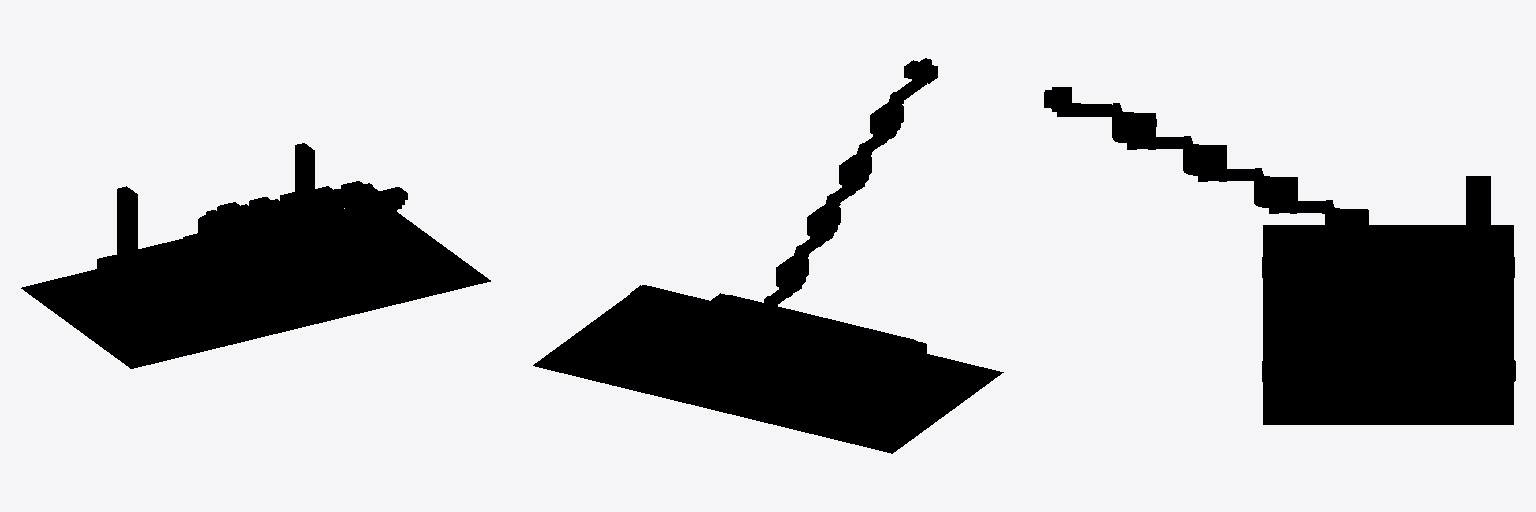
--- Facts derived from the render (not from the file) ---
3 views of the same robot in one strip: view 1: azimuth 30°, elevation 25°; view 2: azimuth 150°, elevation 25°; view 3: azimuth 270°, elevation 25° (orthographic).
Model scara_e1_3joints with 36 links and 35 joints (6 revolute, 29 fixed), rooted at world, posed all joints at 0.
Visible links, largest first — view 1: world, scara_e1_base_link, scara_e1_metraquilato, scara_e1_motor2, scara_e1_motor5, scara_e1_motor6, scara_e1_motor3, scara_e1_motor4, scara_e1_rangefinder; view 2: world, scara_e1_metraquilato, scara_e1_base_link, scara_e1_motor1, scara_e1_motor6, scara_e1_motor4, scara_e1_motor3, scara_e1_motor2, scara_e1_motor5, scara_e1_rangefinder; view 3: world, scara_e1_base_link, scara_e1_metraquilato, scara_e1_motor6, scara_e1_motor5, scara_e1_motor2, scara_e1_motor3, scara_e1_motor4, scara_e1_rangefinder, scara_e1_hros_logo, scara_e1_bar6.
Link boxes in pixels (<box>): world: <box>21,204,490,368</box>; scara_e1_base_link: <box>97,143,414,349</box>; scara_e1_metraquilato: <box>97,146,413,348</box>; scara_e1_motor2: <box>217,202,250,235</box>; scara_e1_motor5: <box>310,186,343,219</box>; scara_e1_motor6: <box>341,181,373,214</box>; scara_e1_motor3: <box>249,197,281,230</box>; scara_e1_motor4: <box>280,191,312,224</box>; scara_e1_rangefinder: <box>374,187,407,209</box>; world: <box>533,285,1003,453</box>; scara_e1_metraquilato: <box>610,288,926,433</box>; scara_e1_base_link: <box>609,285,926,434</box>; scara_e1_motor1: <box>707,353,746,381</box>; scara_e1_motor6: <box>870,103,903,136</box>; scara_e1_motor4: <box>807,206,840,238</box>; scara_e1_motor3: <box>776,256,808,289</box>; scara_e1_motor2: <box>745,307,777,340</box>; scara_e1_motor5: <box>839,155,871,187</box>; scara_e1_rangefinder: <box>904,58,937,83</box>; world: <box>1263,225,1513,424</box>; scara_e1_base_link: <box>1262,176,1515,381</box>; scara_e1_metraquilato: <box>1263,182,1514,381</box>; scara_e1_motor6: <box>1112,112,1156,142</box>; scara_e1_motor5: <box>1183,145,1226,174</box>; scara_e1_motor2: <box>1395,241,1439,270</box>; scara_e1_motor3: <box>1325,209,1368,238</box>; scara_e1_motor4: <box>1254,177,1297,206</box>; scara_e1_rangefinder: <box>1044,87,1081,112</box>; scara_e1_hros_logo: <box>1270,288,1297,335</box>; scara_e1_bar6: <box>1057,104,1117,116</box>.
Size in the robot's own frame: 1.5 by 1.5 by 0.8017 metres.
34 mesh visuals loaded from 10 distinct referenced files (10 binary STL).

robot.urdf — scara_e1_3joints:
<?xml version="1.0" ?>
<!-- =================================================================================== -->
<!-- |    This document was autogenerated by xacro from scara_e1_model_6joints.urdf.xacro | -->
<!-- |    EDITING THIS FILE BY HAND IS NOT RECOMMENDED                                 | -->
<!-- =================================================================================== -->
<robot name="scara_e1_3joints" xmlns:xacro="http://ros.org/wiki/xacro">
  <link name="world">
    <visual>
      <geometry>
        <box size="1.5 0.8 0.001"/>
      </geometry>
      <origin rpy="0 0 0" xyz="0 0 0"/>
      <material name="Gazebo/Black">
       </material>
    </visual>
  </link>
  <link name="scara_e1_base_link">
    <inertial>
      <origin rpy="0 0 0" xyz="8.625E-08 -4.6583E-06 0.03145"/>
      <mass value="0.22652"/>
      <inertia ixx="0.00020005" ixy="-4.2442E-10" ixz="-2.9069E-10" iyy="0.00017832" iyz="-3.4402E-08" izz="0.00013478"/>
    </inertial>
    <visual>
      <origin rpy="0 0 0" xyz="0 0 0"/>
      <geometry>
        <mesh filename="package://scara_e1_description/meshes/scara_e1_base_link.stl" scale="0.001 0.001 0.001"/>
      </geometry>
      <material name="Gazebo/Grey">
        <color rgba="0. 0. 0. 1"/>
      </material>
    </visual>
    <collision>
      <origin rpy="0 0 0" xyz="0 0 0"/>
      <geometry>
        <mesh filename="package://scara_e1_description/meshes/scara_e1_base_link.stl" scale="0.001 0.001 0.001"/>
      </geometry>
    </collision>
  </link>
  <link name="scara_e1_metraquilato">
    <inertial>
      <origin rpy="0 0 0" xyz="8.625E-08 -4.6583E-06 0.03145"/>
      <mass value="0.22652"/>
      <inertia ixx="0.00020005" ixy="-4.2442E-10" ixz="-2.9069E-10" iyy="0.00017832" iyz="-3.4402E-08" izz="0.00013478"/>
    </inertial>
    <visual>
      <origin rpy="0 0 0" xyz="0 0 0"/>
      <geometry>
        <mesh filename="package://scara_e1_description/meshes/scara_e1_metacrilato.stl" scale="0.001 0.001 0.001"/>
      </geometry>
      <material name="Gazebo/Black">
        <color rgba="0. 0. 0. 1"/>
      </material>
    </visual>
    <collision>
      <origin rpy="0 0 0" xyz="0 0 0"/>
      <geometry>
        <mesh filename="package://scara_e1_description/meshes/scara_e1_metacrilato.stl" scale="0.001 0.001 0.001"/>
      </geometry>
    </collision>
  </link>
  <link name="scara_e1_hros_logo">
    <inertial>
      <origin rpy="0 0 0" xyz="8.625E-08 -4.6583E-06 0.03145"/>
      <mass value="0.22652"/>
      <inertia ixx="0.00020005" ixy="-4.2442E-10" ixz="-2.9069E-10" iyy="0.00017832" iyz="-3.4402E-08" izz="0.00013478"/>
    </inertial>
    <visual>
      <origin rpy="0 0 0" xyz="0 0 0"/>
      <geometry>
        <mesh filename="package://scara_e1_description/meshes/scara_e1_hros_logo.stl" scale="0.001 0.001 0.001"/>
      </geometry>
      <material name="Gazebo/Black">
        <color rgba="0. 0. 0. 1"/>
      </material>
    </visual>
    <collision>
      <origin rpy="0 0 0" xyz="0 0 0"/>
      <geometry>
        <mesh filename="package://scara_e1_description/meshes/scara_e1_hros_logo.stl" scale="0.001 0.001 0.001"/>
      </geometry>
    </collision>
  </link>
  <link name="scara_e1_base_motor">
    <inertial>
      <origin rpy="0 0 0" xyz="8.625E-08 -4.6583E-06 0.03145"/>
      <mass value="0.22652"/>
      <inertia ixx="0.00020005" ixy="-4.2442E-10" ixz="-2.9069E-10" iyy="0.00017832" iyz="-3.4402E-08" izz="0.00013478"/>
    </inertial>
    <visual>
      <origin rpy="0 0 0" xyz="0 0 0"/>
      <geometry>
        <mesh filename="package://scara_e1_description/meshes/scara_e1_base_motor.stl" scale="0.001 0.001 0.001"/>
      </geometry>
      <material name="Gazebo/Grey">
        <color rgba="0. 0. 0. 1"/>
      </material>
    </visual>
    <collision>
      <origin rpy="0 0 0" xyz="0 0 0"/>
      <geometry>
        <mesh filename="package://scara_e1_description/meshes/scara_e1_base_motor.stl" scale="0.001 0.001 0.001"/>
      </geometry>
    </collision>
  </link>
  <link name="scara_e1_motor1">
    <inertial>
      <origin rpy="0 0 0" xyz="8.625E-08 -4.6583E-06 0.03145"/>
      <mass value="0.22652"/>
      <inertia ixx="0.00020005" ixy="-4.2442E-10" ixz="-2.9069E-10" iyy="0.00017832" iyz="-3.4402E-08" izz="0.00013478"/>
    </inertial>
    <visual>
      <origin rpy="0 0 0" xyz="0 0 0"/>
      <geometry>
        <mesh filename="package://scara_e1_description/meshes/HEBImotor_case.stl" scale="0.001 0.001 0.001"/>
      </geometry>
      <material name="Gazebo/Red">
        <color rgba="0. 0. 0. 1"/>
      </material>
    </visual>
    <collision>
      <origin rpy="0 0 0" xyz="0 0 0"/>
      <geometry>
        <mesh filename="package://scara_e1_description/meshes/HEBImotor_case.stl" scale="0.001 0.001 0.001"/>
      </geometry>
    </collision>
  </link>
  <link name="scara_e1_motor1_inside">
    <inertial>
      <origin rpy="0 0 0" xyz="8.625E-08 -4.6583E-06 0.03145"/>
      <mass value="0.22652"/>
      <inertia ixx="0.00020005" ixy="-4.2442E-10" ixz="-2.9069E-10" iyy="0.00017832" iyz="-3.4402E-08" izz="0.00013478"/>
    </inertial>
    <visual>
      <origin rpy="0 0 0" xyz="0 0 0"/>
      <geometry>
        <mesh filename="package://scara_e1_description/meshes/HEBImotor.stl" scale="0.001 0.001 0.001"/>
      </geometry>
      <material name="Gazebo/Red">
        <color rgba="0. 0. 0. 1"/>
      </material>
    </visual>
    <collision>
      <origin rpy="0 0 0" xyz="0 0 0"/>
      <geometry>
        <mesh filename="package://scara_e1_description/meshes/HEBImotor.stl" scale="0.001 0.001 0.001"/>
      </geometry>
    </collision>
  </link>
  <link name="scara_e1_motor1_support">
    <inertial>
      <origin rpy="0 0 0" xyz="8.625E-08 -4.6583E-06 0.03145"/>
      <mass value="0.22652"/>
      <inertia ixx="0.00020005" ixy="-4.2442E-10" ixz="-2.9069E-10" iyy="0.00017832" iyz="-3.4402E-08" izz="0.00013478"/>
    </inertial>
    <visual>
      <origin rpy="0 0 0" xyz="0 0 0"/>
      <geometry>
        <mesh filename="package://scara_e1_description/meshes/HEBImotor_support.stl" scale="0.001 0.001 0.001"/>
      </geometry>
      <material name="Gazebo/Grey">
        <color rgba="0. 0. 0. 1"/>
      </material>
    </visual>
    <collision>
      <origin rpy="0 0 0" xyz="0 0 0"/>
      <geometry>
        <mesh filename="package://scara_e1_description/meshes/HEBImotor_support.stl" scale="0.001 0.001 0.001"/>
      </geometry>
    </collision>
  </link>
  <link name="scara_e1_bar1">
    <inertial>
      <origin rpy="0 0 0" xyz="8.625E-08 -4.6583E-06 0.03145"/>
      <mass value="0.22652"/>
      <inertia ixx="0.00020005" ixy="-4.2442E-10" ixz="-2.9069E-10" iyy="0.00017832" iyz="-3.4402E-08" izz="0.00013478"/>
    </inertial>
    <visual>
      <origin rpy="0 0 0" xyz="0 0 0"/>
      <geometry>
        <mesh filename="package://scara_e1_description/meshes/scara_bar.stl" scale="0.001 0.001 0.001"/>
      </geometry>
      <material name="Gazebo/White">
        <color rgba="0. 0. 0. 1"/>
      </material>
    </visual>
    <collision>
      <origin rpy="0 0 0" xyz="0 0 0"/>
      <geometry>
        <mesh filename="package://scara_e1_description/meshes/scara_bar.stl" scale="0.001 0.001 0.001"/>
      </geometry>
    </collision>
  </link>
  <link name="scara_e1_fixbar1">
    <inertial>
      <origin rpy="0 0 0" xyz="8.625E-08 -4.6583E-06 0.03145"/>
      <mass value="0.22652"/>
      <inertia ixx="0.00020005" ixy="-4.2442E-10" ixz="-2.9069E-10" iyy="0.00017832" iyz="-3.4402E-08" izz="0.00013478"/>
    </inertial>
    <visual>
      <origin rpy="0 0 0" xyz="0 0 0"/>
      <geometry>
        <mesh filename="package://scara_e1_description/meshes/HEBImotor_fixbar.stl" scale="0.001 0.001 0.001"/>
      </geometry>
      <material name="Gazebo/Grey">
        <color rgba="0. 0. 0. 1"/>
      </material>
    </visual>
    <collision>
      <origin rpy="0 0 0" xyz="0 0 0"/>
      <geometry>
        <mesh filename="package://scara_e1_description/meshes/HEBImotor_fixbar.stl" scale="0.001 0.001 0.001"/>
      </geometry>
    </collision>
  </link>
  <link name="scara_e1_motor2">
    <inertial>
      <origin rpy="0 0 0" xyz="8.625E-08 -4.6583E-06 0.03145"/>
      <mass value="0.22652"/>
      <inertia ixx="0.00020005" ixy="-4.2442E-10" ixz="-2.9069E-10" iyy="0.00017832" iyz="-3.4402E-08" izz="0.00013478"/>
    </inertial>
    <visual>
      <origin rpy="0 0 0" xyz="0 0 0"/>
      <geometry>
        <mesh filename="package://scara_e1_description/meshes/HEBImotor_case.stl" scale="0.001 0.001 0.001"/>
      </geometry>
      <material name="Gazebo/Red">
        <color rgba="0. 0. 0. 1"/>
      </material>
    </visual>
    <collision>
      <origin rpy="0 0 0" xyz="0 0 0"/>
      <geometry>
        <mesh filename="package://scara_e1_description/meshes/HEBImotor_case.stl" scale="0.001 0.001 0.001"/>
      </geometry>
    </collision>
  </link>
  <link name="scara_e1_motor2_inside">
    <inertial>
      <origin rpy="0 0 0" xyz="8.625E-08 -4.6583E-06 0.03145"/>
      <mass value="0.22652"/>
      <inertia ixx="0.00020005" ixy="-4.2442E-10" ixz="-2.9069E-10" iyy="0.00017832" iyz="-3.4402E-08" izz="0.00013478"/>
    </inertial>
    <visual>
      <origin rpy="0 0 0" xyz="0 0 0"/>
      <geometry>
        <mesh filename="package://scara_e1_description/meshes/HEBImotor.stl" scale="0.001 0.001 0.001"/>
      </geometry>
      <material name="Gazebo/Red">
        <color rgba="0. 0. 0. 1"/>
      </material>
    </visual>
    <collision>
      <origin rpy="0 0 0" xyz="0 0 0"/>
      <geometry>
        <mesh filename="package://scara_e1_description/meshes/HEBImotor.stl" scale="0.001 0.001 0.001"/>
      </geometry>
    </collision>
  </link>
  <link name="scara_e1_motor2_support">
    <inertial>
      <origin rpy="0 0 0" xyz="8.625E-08 -4.6583E-06 0.03145"/>
      <mass value="0.22652"/>
      <inertia ixx="0.00020005" ixy="-4.2442E-10" ixz="-2.9069E-10" iyy="0.00017832" iyz="-3.4402E-08" izz="0.00013478"/>
    </inertial>
    <visual>
      <origin rpy="0 0 0" xyz="0 0 0"/>
      <geometry>
        <mesh filename="package://scara_e1_description/meshes/HEBImotor_support.stl" scale="0.001 0.001 0.001"/>
      </geometry>
      <material name="Gazebo/Grey">
        <color rgba="0. 0. 0. 1"/>
      </material>
    </visual>
    <collision>
      <origin rpy="0 0 0" xyz="0 0 0"/>
      <geometry>
        <mesh filename="package://scara_e1_description/meshes/HEBImotor_support.stl" scale="0.001 0.001 0.001"/>
      </geometry>
    </collision>
  </link>
  <link name="scara_e1_bar2">
    <inertial>
      <origin rpy="0 0 0" xyz="8.625E-08 -4.6583E-06 0.03145"/>
      <mass value="0.22652"/>
      <inertia ixx="0.00020005" ixy="-4.2442E-10" ixz="-2.9069E-10" iyy="0.00017832" iyz="-3.4402E-08" izz="0.00013478"/>
    </inertial>
    <visual>
      <origin rpy="0 0 0" xyz="0 0 0"/>
      <geometry>
        <mesh filename="package://scara_e1_description/meshes/scara_bar.stl" scale="0.001 0.001 0.001"/>
      </geometry>
      <material name="Gazebo/White">
        <color rgba="0. 0. 0. 1"/>
      </material>
    </visual>
    <collision>
      <origin rpy="0 0 0" xyz="0 0 0"/>
      <geometry>
        <mesh filename="package://scara_e1_description/meshes/scara_bar.stl" scale="0.001 0.001 0.001"/>
      </geometry>
    </collision>
  </link>
  <link name="scara_e1_fixbar2">
    <inertial>
      <origin rpy="0 0 0" xyz="8.625E-08 -4.6583E-06 0.03145"/>
      <mass value="0.22652"/>
      <inertia ixx="0.00020005" ixy="-4.2442E-10" ixz="-2.9069E-10" iyy="0.00017832" iyz="-3.4402E-08" izz="0.00013478"/>
    </inertial>
    <visual>
      <origin rpy="0 0 0" xyz="0 0 0"/>
      <geometry>
        <mesh filename="package://scara_e1_description/meshes/HEBImotor_fixbar.stl" scale="0.001 0.001 0.001"/>
      </geometry>
      <material name="Gazebo/Grey">
        <color rgba="0. 0. 0. 1"/>
      </material>
    </visual>
    <collision>
      <origin rpy="0 0 0" xyz="0 0 0"/>
      <geometry>
        <mesh filename="package://scara_e1_description/meshes/HEBImotor_fixbar.stl" scale="0.001 0.001 0.001"/>
      </geometry>
    </collision>
  </link>
  <link name="scara_e1_motor3">
    <inertial>
      <origin rpy="0 0 0" xyz="8.625E-08 -4.6583E-06 0.03145"/>
      <mass value="0.22652"/>
      <inertia ixx="0.00020005" ixy="-4.2442E-10" ixz="-2.9069E-10" iyy="0.00017832" iyz="-3.4402E-08" izz="0.00013478"/>
    </inertial>
    <visual>
      <origin rpy="0 0 0" xyz="0 0 0"/>
      <geometry>
        <mesh filename="package://scara_e1_description/meshes/HEBImotor_case.stl" scale="0.001 0.001 0.001"/>
      </geometry>
      <material name="Gazebo/Red">
        <color rgba="0. 0. 0. 1"/>
      </material>
    </visual>
    <collision>
      <origin rpy="0 0 0" xyz="0 0 0"/>
      <geometry>
        <mesh filename="package://scara_e1_description/meshes/HEBImotor_case.stl" scale="0.001 0.001 0.001"/>
      </geometry>
    </collision>
  </link>
  <link name="scara_e1_motor3_inside">
    <inertial>
      <origin rpy="0 0 0" xyz="8.625E-08 -4.6583E-06 0.03145"/>
      <mass value="0.22652"/>
      <inertia ixx="0.00020005" ixy="-4.2442E-10" ixz="-2.9069E-10" iyy="0.00017832" iyz="-3.4402E-08" izz="0.00013478"/>
    </inertial>
    <visual>
      <origin rpy="0 0 0" xyz="0 0 0"/>
      <geometry>
        <mesh filename="package://scara_e1_description/meshes/HEBImotor.stl" scale="0.001 0.001 0.001"/>
      </geometry>
      <material name="Gazebo/Red">
        <color rgba="0. 0. 0. 1"/>
      </material>
    </visual>
    <collision>
      <origin rpy="0 0 0" xyz="0 0 0"/>
      <geometry>
        <mesh filename="package://scara_e1_description/meshes/HEBImotor.stl" scale="0.001 0.001 0.001"/>
      </geometry>
    </collision>
  </link>
  <link name="scara_e1_motor3_support">
    <inertial>
      <origin rpy="0 0 0" xyz="8.625E-08 -4.6583E-06 0.03145"/>
      <mass value="0.22652"/>
      <inertia ixx="0.00020005" ixy="-4.2442E-10" ixz="-2.9069E-10" iyy="0.00017832" iyz="-3.4402E-08" izz="0.00013478"/>
    </inertial>
    <visual>
      <origin rpy="0 0 0" xyz="0 0 0"/>
      <geometry>
        <mesh filename="package://scara_e1_description/meshes/HEBImotor_support.stl" scale="0.001 0.001 0.001"/>
      </geometry>
      <material name="Gazebo/Grey">
        <color rgba="0. 0. 0. 1"/>
      </material>
    </visual>
    <collision>
      <origin rpy="0 0 0" xyz="0 0 0"/>
      <geometry>
        <mesh filename="package://scara_e1_description/meshes/HEBImotor_support.stl" scale="0.001 0.001 0.001"/>
      </geometry>
    </collision>
  </link>
  <link name="scara_e1_bar3">
    <inertial>
      <origin rpy="0 0 0" xyz="8.625E-08 -4.6583E-06 0.03145"/>
      <mass value="0.22652"/>
      <inertia ixx="0.00020005" ixy="-4.2442E-10" ixz="-2.9069E-10" iyy="0.00017832" iyz="-3.4402E-08" izz="0.00013478"/>
    </inertial>
    <visual>
      <origin rpy="0 0 0" xyz="0 0 0"/>
      <geometry>
        <mesh filename="package://scara_e1_description/meshes/scara_bar.stl" scale="0.001 0.001 0.001"/>
      </geometry>
      <material name="Gazebo/White">
        <color rgba="0. 0. 0. 1"/>
      </material>
    </visual>
    <collision>
      <origin rpy="0 0 0" xyz="0 0 0"/>
      <geometry>
        <mesh filename="package://scara_e1_description/meshes/scara_bar.stl" scale="0.001 0.001 0.001"/>
      </geometry>
    </collision>
  </link>
  <link name="scara_e1_fixbar3">
    <inertial>
      <origin rpy="0 0 0" xyz="8.625E-08 -4.6583E-06 0.03145"/>
      <mass value="0.22652"/>
      <inertia ixx="0.00020005" ixy="-4.2442E-10" ixz="-2.9069E-10" iyy="0.00017832" iyz="-3.4402E-08" izz="0.00013478"/>
    </inertial>
    <visual>
      <origin rpy="0 0 0" xyz="0 0 0"/>
      <geometry>
        <mesh filename="package://scara_e1_description/meshes/HEBImotor_fixbar.stl" scale="0.001 0.001 0.001"/>
      </geometry>
      <material name="Gazebo/Grey">
        <color rgba="0. 0. 0. 1"/>
      </material>
    </visual>
    <collision>
      <origin rpy="0 0 0" xyz="0 0 0"/>
      <geometry>
        <mesh filename="package://scara_e1_description/meshes/HEBImotor_fixbar.stl" scale="0.001 0.001 0.001"/>
      </geometry>
    </collision>
  </link>
  <link name="scara_e1_motor4">
    <inertial>
      <origin rpy="0 0 0" xyz="8.625E-08 -4.6583E-06 0.03145"/>
      <mass value="0.22652"/>
      <inertia ixx="0.00020005" ixy="-4.2442E-10" ixz="-2.9069E-10" iyy="0.00017832" iyz="-3.4402E-08" izz="0.00013478"/>
    </inertial>
    <visual>
      <origin rpy="0 0 0" xyz="0 0 0"/>
      <geometry>
        <mesh filename="package://scara_e1_description/meshes/HEBImotor_case.stl" scale="0.001 0.001 0.001"/>
      </geometry>
      <material name="Gazebo/Red">
        <color rgba="0. 0. 0. 1"/>
      </material>
    </visual>
    <collision>
      <origin rpy="0 0 0" xyz="0 0 0"/>
      <geometry>
        <mesh filename="package://scara_e1_description/meshes/HEBImotor_case.stl" scale="0.001 0.001 0.001"/>
      </geometry>
    </collision>
  </link>
  <link name="scara_e1_motor4_inside">
    <inertial>
      <origin rpy="0 0 0" xyz="8.625E-08 -4.6583E-06 0.03145"/>
      <mass value="0.22652"/>
      <inertia ixx="0.00020005" ixy="-4.2442E-10" ixz="-2.9069E-10" iyy="0.00017832" iyz="-3.4402E-08" izz="0.00013478"/>
    </inertial>
    <visual>
      <origin rpy="0 0 0" xyz="0 0 0"/>
      <geometry>
        <mesh filename="package://scara_e1_description/meshes/HEBImotor.stl" scale="0.001 0.001 0.001"/>
      </geometry>
      <material name="Gazebo/Red">
        <color rgba="0. 0. 0. 1"/>
      </material>
    </visual>
    <collision>
      <origin rpy="0 0 0" xyz="0 0 0"/>
      <geometry>
        <mesh filename="package://scara_e1_description/meshes/HEBImotor.stl" scale="0.001 0.001 0.001"/>
      </geometry>
    </collision>
  </link>
  <link name="scara_e1_motor4_support">
    <inertial>
      <origin rpy="0 0 0" xyz="8.625E-08 -4.6583E-06 0.03145"/>
      <mass value="0.22652"/>
      <inertia ixx="0.00020005" ixy="-4.2442E-10" ixz="-2.9069E-10" iyy="0.00017832" iyz="-3.4402E-08" izz="0.00013478"/>
    </inertial>
    <visual>
      <origin rpy="0 0 0" xyz="0 0 0"/>
      <geometry>
        <mesh filename="package://scara_e1_description/meshes/HEBImotor_support.stl" scale="0.001 0.001 0.001"/>
      </geometry>
      <material name="Gazebo/Grey">
        <color rgba="0. 0. 0. 1"/>
      </material>
    </visual>
    <collision>
      <origin rpy="0 0 0" xyz="0 0 0"/>
      <geometry>
        <mesh filename="package://scara_e1_description/meshes/HEBImotor_support.stl" scale="0.001 0.001 0.001"/>
      </geometry>
    </collision>
  </link>
  <link name="scara_e1_bar4">
    <inertial>
      <origin rpy="0 0 0" xyz="8.625E-08 -4.6583E-06 0.03145"/>
      <mass value="0.22652"/>
      <inertia ixx="0.00020005" ixy="-4.2442E-10" ixz="-2.9069E-10" iyy="0.00017832" iyz="-3.4402E-08" izz="0.00013478"/>
    </inertial>
    <visual>
      <origin rpy="0 0 0" xyz="0 0 0"/>
      <geometry>
        <mesh filename="package://scara_e1_description/meshes/scara_bar.stl" scale="0.001 0.001 0.001"/>
      </geometry>
      <material name="Gazebo/White">
        <color rgba="0. 0. 0. 1"/>
      </material>
    </visual>
    <collision>
      <origin rpy="0 0 0" xyz="0 0 0"/>
      <geometry>
        <mesh filename="package://scara_e1_description/meshes/scara_bar.stl" scale="0.001 0.001 0.001"/>
      </geometry>
    </collision>
  </link>
  <link name="scara_e1_fixbar4">
    <inertial>
      <origin rpy="0 0 0" xyz="8.625E-08 -4.6583E-06 0.03145"/>
      <mass value="0.22652"/>
      <inertia ixx="0.00020005" ixy="-4.2442E-10" ixz="-2.9069E-10" iyy="0.00017832" iyz="-3.4402E-08" izz="0.00013478"/>
    </inertial>
    <visual>
      <origin rpy="0 0 0" xyz="0 0 0"/>
      <geometry>
        <mesh filename="package://scara_e1_description/meshes/HEBImotor_fixbar.stl" scale="0.001 0.001 0.001"/>
      </geometry>
      <material name="Gazebo/Grey">
        <color rgba="0. 0. 0. 1"/>
      </material>
    </visual>
    <collision>
      <origin rpy="0 0 0" xyz="0 0 0"/>
      <geometry>
        <mesh filename="package://scara_e1_description/meshes/HEBImotor_fixbar.stl" scale="0.001 0.001 0.001"/>
      </geometry>
    </collision>
  </link>
  <link name="scara_e1_motor5">
    <inertial>
      <origin rpy="0 0 0" xyz="8.625E-08 -4.6583E-06 0.03145"/>
      <mass value="0.22652"/>
      <inertia ixx="0.00020005" ixy="-4.2442E-10" ixz="-2.9069E-10" iyy="0.00017832" iyz="-3.4402E-08" izz="0.00013478"/>
    </inertial>
    <visual>
      <origin rpy="0 0 0" xyz="0 0 0"/>
      <geometry>
        <mesh filename="package://scara_e1_description/meshes/HEBImotor_case.stl" scale="0.001 0.001 0.001"/>
      </geometry>
      <material name="Gazebo/Red">
        <color rgba="0. 0. 0. 1"/>
      </material>
    </visual>
    <collision>
      <origin rpy="0 0 0" xyz="0 0 0"/>
      <geometry>
        <mesh filename="package://scara_e1_description/meshes/HEBImotor_case.stl" scale="0.001 0.001 0.001"/>
      </geometry>
    </collision>
  </link>
  <link name="scara_e1_motor5_inside">
    <inertial>
      <origin rpy="0 0 0" xyz="8.625E-08 -4.6583E-06 0.03145"/>
      <mass value="0.22652"/>
      <inertia ixx="0.00020005" ixy="-4.2442E-10" ixz="-2.9069E-10" iyy="0.00017832" iyz="-3.4402E-08" izz="0.00013478"/>
    </inertial>
    <visual>
      <origin rpy="0 0 0" xyz="0 0 0"/>
      <geometry>
        <mesh filename="package://scara_e1_description/meshes/HEBImotor.stl" scale="0.001 0.001 0.001"/>
      </geometry>
      <material name="Gazebo/Red">
        <color rgba="0. 0. 0. 1"/>
      </material>
    </visual>
    <collision>
      <origin rpy="0 0 0" xyz="0 0 0"/>
      <geometry>
        <mesh filename="package://scara_e1_description/meshes/HEBImotor.stl" scale="0.001 0.001 0.001"/>
      </geometry>
    </collision>
  </link>
  <link name="scara_e1_motor5_support">
    <inertial>
      <origin rpy="0 0 0" xyz="8.625E-08 -4.6583E-06 0.03145"/>
      <mass value="0.22652"/>
      <inertia ixx="0.00020005" ixy="-4.2442E-10" ixz="-2.9069E-10" iyy="0.00017832" iyz="-3.4402E-08" izz="0.00013478"/>
    </inertial>
    <visual>
      <origin rpy="0 0 0" xyz="0 0 0"/>
      <geometry>
        <mesh filename="package://scara_e1_description/meshes/HEBImotor_support.stl" scale="0.001 0.001 0.001"/>
      </geometry>
      <material name="Gazebo/Grey">
        <color rgba="0. 0. 0. 1"/>
      </material>
    </visual>
    <collision>
      <origin rpy="0 0 0" xyz="0 0 0"/>
      <geometry>
        <mesh filename="package://scara_e1_description/meshes/HEBImotor_support.stl" scale="0.001 0.001 0.001"/>
      </geometry>
    </collision>
  </link>
  <link name="scara_e1_bar5">
    <inertial>
      <origin rpy="0 0 0" xyz="8.625E-08 -4.6583E-06 0.03145"/>
      <mass value="0.22652"/>
      <inertia ixx="0.00020005" ixy="-4.2442E-10" ixz="-2.9069E-10" iyy="0.00017832" iyz="-3.4402E-08" izz="0.00013478"/>
    </inertial>
    <visual>
      <origin rpy="0 0 0" xyz="0 0 0"/>
      <geometry>
        <mesh filename="package://scara_e1_description/meshes/scara_bar.stl" scale="0.001 0.001 0.001"/>
      </geometry>
      <material name="Gazebo/White">
        <color rgba="0. 0. 0. 1"/>
      </material>
    </visual>
    <collision>
      <origin rpy="0 0 0" xyz="0 0 0"/>
      <geometry>
        <mesh filename="package://scara_e1_description/meshes/scara_bar.stl" scale="0.001 0.001 0.001"/>
      </geometry>
    </collision>
  </link>
  <link name="scara_e1_fixbar5">
    <inertial>
      <origin rpy="0 0 0" xyz="8.625E-08 -4.6583E-06 0.03145"/>
      <mass value="0.22652"/>
      <inertia ixx="0.00020005" ixy="-4.2442E-10" ixz="-2.9069E-10" iyy="0.00017832" iyz="-3.4402E-08" izz="0.00013478"/>
    </inertial>
    <visual>
      <origin rpy="0 0 0" xyz="0 0 0"/>
      <geometry>
        <mesh filename="package://scara_e1_description/meshes/HEBImotor_fixbar.stl" scale="0.001 0.001 0.001"/>
      </geometry>
      <material name="Gazebo/Grey">
        <color rgba="0. 0. 0. 1"/>
      </material>
    </visual>
    <collision>
      <origin rpy="0 0 0" xyz="0 0 0"/>
      <geometry>
        <mesh filename="package://scara_e1_description/meshes/HEBImotor_fixbar.stl" scale="0.001 0.001 0.001"/>
      </geometry>
    </collision>
  </link>
  <link name="scara_e1_motor6">
    <inertial>
      <origin rpy="0 0 0" xyz="8.625E-08 -4.6583E-06 0.03145"/>
      <mass value="0.22652"/>
      <inertia ixx="0.00020005" ixy="-4.2442E-10" ixz="-2.9069E-10" iyy="0.00017832" iyz="-3.4402E-08" izz="0.00013478"/>
    </inertial>
    <visual>
      <origin rpy="0 0 0" xyz="0 0 0"/>
      <geometry>
        <mesh filename="package://scara_e1_description/meshes/HEBImotor_case.stl" scale="0.001 0.001 0.001"/>
      </geometry>
      <material name="Gazebo/Red">
        <color rgba="0. 0. 0. 1"/>
      </material>
    </visual>
    <collision>
      <origin rpy="0 0 0" xyz="0 0 0"/>
      <geometry>
        <mesh filename="package://scara_e1_description/meshes/HEBImotor_case.stl" scale="0.001 0.001 0.001"/>
      </geometry>
    </collision>
  </link>
  <link name="scara_e1_motor6_inside">
    <inertial>
      <origin rpy="0 0 0" xyz="8.625E-08 -4.6583E-06 0.03145"/>
      <mass value="0.22652"/>
      <inertia ixx="0.00020005" ixy="-4.2442E-10" ixz="-2.9069E-10" iyy="0.00017832" iyz="-3.4402E-08" izz="0.00013478"/>
    </inertial>
    <visual>
      <origin rpy="0 0 0" xyz="0 0 0"/>
      <geometry>
        <mesh filename="package://scara_e1_description/meshes/HEBImotor.stl" scale="0.001 0.001 0.001"/>
      </geometry>
      <material name="Gazebo/Red">
        <color rgba="0. 0. 0. 1"/>
      </material>
    </visual>
    <collision>
      <origin rpy="0 0 0" xyz="0 0 0"/>
      <geometry>
        <mesh filename="package://scara_e1_description/meshes/HEBImotor.stl" scale="0.001 0.001 0.001"/>
      </geometry>
    </collision>
  </link>
  <link name="scara_e1_motor6_support">
    <inertial>
      <origin rpy="0 0 0" xyz="8.625E-08 -4.6583E-06 0.03145"/>
      <mass value="0.22652"/>
      <inertia ixx="0.00020005" ixy="-4.2442E-10" ixz="-2.9069E-10" iyy="0.00017832" iyz="-3.4402E-08" izz="0.00013478"/>
    </inertial>
    <visual>
      <origin rpy="0 0 0" xyz="0 0 0"/>
      <geometry>
        <mesh filename="package://scara_e1_description/meshes/HEBImotor_support.stl" scale="0.001 0.001 0.001"/>
      </geometry>
      <material name="Gazebo/Grey">
        <color rgba="0. 0. 0. 1"/>
      </material>
    </visual>
    <collision>
      <origin rpy="0 0 0" xyz="0 0 0"/>
      <geometry>
        <mesh filename="package://scara_e1_description/meshes/HEBImotor_support.stl" scale="0.001 0.001 0.001"/>
      </geometry>
    </collision>
  </link>
  <link name="scara_e1_bar6">
    <inertial>
      <origin rpy="0 0 0" xyz="8.625E-08 -4.6583E-06 0.03145"/>
      <mass value="0.22652"/>
      <inertia ixx="0.00020005" ixy="-4.2442E-10" ixz="-2.9069E-10" iyy="0.00017832" iyz="-3.4402E-08" izz="0.00013478"/>
    </inertial>
    <visual>
      <origin rpy="0 0 0" xyz="0 0 0"/>
      <geometry>
        <mesh filename="package://scara_e1_description/meshes/scara_bar.stl" scale="0.001 0.001 0.001"/>
      </geometry>
      <material name="Gazebo/White">
        <color rgba="0. 0. 0. 1"/>
      </material>
    </visual>
    <collision>
      <origin rpy="0 0 0" xyz="0 0 0"/>
      <geometry>
        <mesh filename="package://scara_e1_description/meshes/scara_bar.stl" scale="0.001 0.001 0.001"/>
      </geometry>
    </collision>
  </link>
  <link name="scara_e1_rangefinder">
    <inertial>
      <origin rpy="0 0 0" xyz="8.625E-08 -4.6583E-06 0.03145"/>
      <mass value="0.22652"/>
      <inertia ixx="0.00020005" ixy="-4.2442E-10" ixz="-2.9069E-10" iyy="0.00017832" iyz="-3.4402E-08" izz="0.00013478"/>
    </inertial>
    <visual>
      <origin rpy="0 0 0" xyz="0 0 0"/>
      <geometry>
        <mesh filename="package://scara_e1_description/meshes/scara_e1_rangefinder.stl" scale="0.001 0.001 0.001"/>
      </geometry>
      <material name="Gazebo/Blue">
        <color rgba="0. 0. 0. 1"/>
      </material>
    </visual>
    <collision>
      <origin rpy="0 0 0" xyz="0 0 0"/>
      <geometry>
        <mesh filename="package://scara_e1_description/meshes/scara_e1_rangefinder.stl" scale="0.001 0.001 0.001"/>
      </geometry>
    </collision>
  </link>
  <link name="ee_link"/>
  <joint name="world_to_base_joint" type="fixed">
    <origin rpy="0 0 -1.57" xyz="0 0 0"/>
    <parent link="world"/>
    <child link="scara_e1_base_link"/>
  </joint>
  <joint name="logo_joint" type="fixed">
    <origin rpy="0 0 -1.57" xyz="0 -0.332 0.045"/>
    <parent link="world"/>
    <child link="scara_e1_hros_logo"/>
  </joint>
  <joint name="base_to_metraquilato_joint" type="fixed">
    <origin rpy="0 0 -1.57" xyz="0 0 0"/>
    <parent link="world"/>
    <child link="scara_e1_metraquilato"/>
  </joint>
  <joint name="base_to_base_motor_joint" type="fixed">
    <origin rpy="0 0 1.57" xyz="-0.285 0 0.08"/>
    <parent link="scara_e1_base_link"/>
    <child link="scara_e1_base_motor"/>
  </joint>
  <joint name="base_to_motor1_joint" type="fixed">
    <origin rpy="0 0 0" xyz="0 0. 0"/>
    <parent link="scara_e1_base_motor"/>
    <child link="scara_e1_motor1"/>
  </joint>
  <joint name="base_to_motor1_inside_joint" type="fixed">
    <origin rpy="0 0 0" xyz="0 0. 0"/>
    <parent link="scara_e1_motor1"/>
    <child link="scara_e1_motor1_inside"/>
  </joint>
  <joint name="motor1" type="revolute">
    <origin rpy="0 0 1.57" xyz="-0.0313 0 0.0702"/>
    <parent link="scara_e1_motor1_inside"/>
    <child link="scara_e1_motor1_support"/>
    <axis xyz="0 0 1"/>
    <limit effort="10" lower="-3.1416" upper="3.1416" velocity="10.0"/>
    <dynamics damping="0" friction="0"/>
  </joint>
  <joint name="base_to_bar1_joint" type="fixed">
    <origin rpy="0 0 0" xyz="-0.1155 0. 0.0240"/>
    <parent link="scara_e1_motor1_support"/>
    <child link="scara_e1_bar1"/>
  </joint>
  <joint name="scara_e1_fixbar1_joint" type="fixed">
    <origin rpy="0 0 3.14" xyz="-0.0783 0. 0.0180"/>
    <parent link="scara_e1_bar1"/>
    <child link="scara_e1_fixbar1"/>
  </joint>
  <joint name="base_to_motor2_joint" type="fixed">
    <origin rpy="0 0 3.1416" xyz="0 0. 0"/>
    <parent link="scara_e1_fixbar1"/>
    <child link="scara_e1_motor2"/>
  </joint>
  <joint name="base_to_motor2_inside_joint" type="fixed">
    <origin rpy="0 0 0" xyz="0 0. 0"/>
    <parent link="scara_e1_motor2"/>
    <child link="scara_e1_motor2_inside"/>
  </joint>
  <joint name="motor2" type="revolute">
    <origin rpy="0 0 0" xyz="-0.0313 0 0.0702"/>
    <parent link="scara_e1_motor2_inside"/>
    <child link="scara_e1_motor2_support"/>
    <axis xyz="0 0 1"/>
    <limit effort="10" lower="-3.1416" upper="3.1416" velocity="10.0"/>
    <dynamics damping="0" friction="0"/>
  </joint>
  <joint name="base_to_bar2_joint" type="fixed">
    <origin rpy="0 0 0" xyz="-0.1155 0. 0.0240"/>
    <parent link="scara_e1_motor2_support"/>
    <child link="scara_e1_bar2"/>
  </joint>
  <joint name="scara_e1_fixbar2_joint" type="fixed">
    <origin rpy="0 0 3.14" xyz="-0.0783 0. 0.0180"/>
    <parent link="scara_e1_bar2"/>
    <child link="scara_e1_fixbar2"/>
  </joint>
  <joint name="base_to_motor3_joint" type="fixed">
    <origin rpy="0 0 3.1416" xyz="0 0. 0"/>
    <parent link="scara_e1_fixbar2"/>
    <child link="scara_e1_motor3"/>
  </joint>
  <joint name="base_to_motor3_inside_joint" type="fixed">
    <origin rpy="0 0 0" xyz="0 0. 0"/>
    <parent link="scara_e1_motor3"/>
    <child link="scara_e1_motor3_inside"/>
  </joint>
  <joint name="motor3" type="revolute">
    <origin rpy="0 0 0" xyz="-0.0313 0 0.0702"/>
    <parent link="scara_e1_motor3_inside"/>
    <child link="scara_e1_motor3_support"/>
    <axis xyz="0 0 1"/>
    <limit effort="10" lower="-3.1416" upper="3.1416" velocity="10.0"/>
    <dynamics damping="0" friction="0"/>
  </joint>
  <joint name="base_to_bar3_joint" type="fixed">
    <origin rpy="0 0 0" xyz="-0.1155 0. 0.0240"/>
    <parent link="scara_e1_motor3_support"/>
    <child link="scara_e1_bar3"/>
  </joint>
  <joint name="scara_e1_fixbar3_joint" type="fixed">
    <origin rpy="0 0 3.14" xyz="-0.0783 0. 0.0180"/>
    <parent link="scara_e1_bar3"/>
    <child link="scara_e1_fixbar3"/>
  </joint>
  <joint name="base_to_motor4_joint" type="fixed">
    <origin rpy="0 0 3.1416" xyz="0 0. 0"/>
    <parent link="scara_e1_fixbar3"/>
    <child link="scara_e1_motor4"/>
  </joint>
  <joint name="base_to_motor4_inside_joint" type="fixed">
    <origin rpy="0 0 0" xyz="0 0. 0"/>
    <parent link="scara_e1_motor4"/>
    <child link="scara_e1_motor4_inside"/>
  </joint>
  <joint name="motor4" type="revolute">
    <origin rpy="0 0 0" xyz="-0.0313 0 0.0702"/>
    <parent link="scara_e1_motor4_inside"/>
    <child link="scara_e1_motor4_support"/>
    <axis xyz="0 0 1"/>
    <limit effort="10" lower="-3.1416" upper="3.1416" velocity="10.0"/>
    <dynamics damping="0" friction="0"/>
  </joint>
  <joint name="base_to_bar4_joint" type="fixed">
    <origin rpy="0 0 0" xyz="-0.1155 0. 0.0240"/>
    <parent link="scara_e1_motor4_support"/>
    <child link="scara_e1_bar4"/>
  </joint>
  <joint name="scara_e1_fixbar4_joint" type="fixed">
    <origin rpy="0 0 3.14" xyz="-0.0783 0. 0.0180"/>
    <parent link="scara_e1_bar4"/>
    <child link="scara_e1_fixbar4"/>
  </joint>
  <joint name="base_to_motor5_joint" type="fixed">
    <origin rpy="0 0 3.1416" xyz="0 0. 0"/>
    <parent link="scara_e1_fixbar4"/>
    <child link="scara_e1_motor5"/>
  </joint>
  <joint name="base_to_motor5_inside_joint" type="fixed">
    <origin rpy="0 0 0" xyz="0 0. 0"/>
    <parent link="scara_e1_motor5"/>
    <child link="scara_e1_motor5_inside"/>
  </joint>
  <joint name="motor5" type="revolute">
    <origin rpy="0 0 0" xyz="-0.0313 0 0.0702"/>
    <parent link="scara_e1_motor5_inside"/>
    <child link="scara_e1_motor5_support"/>
    <axis xyz="0 0 1"/>
    <limit effort="10" lower="-3.1416" upper="3.1416" velocity="10.0"/>
    <dynamics damping="0" friction="0"/>
  </joint>
  <joint name="base_to_bar5_joint" type="fixed">
    <origin rpy="0 0 0" xyz="-0.1155 0. 0.0240"/>
    <parent link="scara_e1_motor5_support"/>
    <child link="scara_e1_bar5"/>
  </joint>
  <joint name="scara_e1_fixbar5_joint" type="fixed">
    <origin rpy="0 0 3.14" xyz="-0.0783 0. 0.0180"/>
    <parent link="scara_e1_bar5"/>
    <child link="scara_e1_fixbar5"/>
  </joint>
  <joint name="base_to_motor6_joint" type="fixed">
    <origin rpy="0 0 3.1416" xyz="0 0. 0"/>
    <parent link="scara_e1_fixbar5"/>
    <child link="scara_e1_motor6"/>
  </joint>
  <joint name="base_to_motor6_inside_joint" type="fixed">
    <origin rpy="0 0 0" xyz="0 0. 0"/>
    <parent link="scara_e1_motor6"/>
    <child link="scara_e1_motor6_inside"/>
  </joint>
  <joint name="motor6" type="revolute">
    <origin rpy="0 0 0" xyz="-0.0313 0 0.0702"/>
    <parent link="scara_e1_motor6_inside"/>
    <child link="scara_e1_motor6_support"/>
    <axis xyz="0 0 1"/>
    <limit effort="10" lower="-3.1416" upper="3.1416" velocity="10.0"/>
    <dynamics damping="0" friction="0"/>
  </joint>
  <joint name="base_to_bar6_joint" type="fixed">
    <origin rpy="0 0 0" xyz="-0.1155 0. 0.0240"/>
    <parent link="scara_e1_motor6_support"/>
    <child link="scara_e1_bar6"/>
  </joint>
  <joint name="rangefinder_joint" type="fixed">
    <origin rpy="0 0 3.1416" xyz="-0.083 0 0.0405119"/>
    <parent link="scara_e1_bar6"/>
    <child link="scara_e1_rangefinder"/>
  </joint>
  <joint name="ee_link_joint" type="fixed">
    <origin rpy="0 0 0" xyz="-0.245 0 0"/>
    <parent link="scara_e1_motor6_support"/>
    <child link="ee_link"/>
  </joint>
  <transmission name="base_to_motor1_inside_support_trans">
    <type>transmission_interface/SimpleTransmission</type>
    <joint name="motor1">
      <hardwareInterface>PositionJointInterface</hardwareInterface>
    </joint>
    <actuator name="motor1_motor">
      <mechanicalReduction>1</mechanicalReduction>
    </actuator>
  </transmission>
  <transmission name="base_to_motor2_inside_support_trans">
    <type>transmission_interface/SimpleTransmission</type>
    <joint name="motor2">
      <hardwareInterface>PositionJointInterface</hardwareInterface>
    </joint>
    <actuator name="motor2_motor">
      <mechanicalReduction>1</mechanicalReduction>
    </actuator>
  </transmission>
  <transmission name="base_to_motor3_inside_support_trans">
    <type>transmission_interface/SimpleTransmission</type>
    <joint name="motor3">
      <hardwareInterface>PositionJointInterface</hardwareInterface>
    </joint>
    <actuator name="motor3_motor">
      <mechanicalReduction>1</mechanicalReduction>
    </actuator>
  </transmission>
  <transmission name="base_to_motor4_inside_support_trans">
    <type>transmission_interface/SimpleTransmission</type>
    <joint name="motor4">
      <hardwareInterface>PositionJointInterface</hardwareInterface>
    </joint>
    <actuator name="motor4_motor">
      <mechanicalReduction>1</mechanicalReduction>
    </actuator>
  </transmission>
  <transmission name="base_to_motor5_inside_support_trans">
    <type>transmission_interface/SimpleTransmission</type>
    <joint name="motor5">
      <hardwareInterface>PositionJointInterface</hardwareInterface>
    </joint>
    <actuator name="motor5_motor">
      <mechanicalReduction>1</mechanicalReduction>
    </actuator>
  </transmission>
  <transmission name="base_to_motor6_inside_support_trans">
    <type>transmission_interface/SimpleTransmission</type>
    <joint name="motor6">
      <hardwareInterface>PositionJointInterface</hardwareInterface>
    </joint>
    <actuator name="motor6_motor">
      <mechanicalReduction>1</mechanicalReduction>
    </actuator>
  </transmission>
  <gazebo reference="scara_e1_base_link">
    <material>Gazebo/Grey</material>
    <selfCollide>False</selfCollide>
  </gazebo>
  <gazebo reference="scara_e1_base_motor">
    <material>Gazebo/Grey</material>
    <selfCollide>False</selfCollide>
  </gazebo>
  <gazebo reference="scara_e1_metraquilato">
    <material>Gazebo/Black</material>
    <selfCollide>False</selfCollide>
  </gazebo>
  <gazebo reference="scara_e1_hros_logo">
    <material>Gazebo/Black</material>
    <selfCollide>False</selfCollide>
  </gazebo>
  <gazebo reference="scara_e1_motor1">
    <material>Gazebo/Black</material>
    <selfCollide>False</selfCollide>
  </gazebo>
  <gazebo reference="scara_e1_motor1_inside">
    <material>Gazebo/Red</material>
    <selfCollide>False</selfCollide>
  </gazebo>
  <gazebo reference="scara_e1_motor1_support">
    <material>Gazebo/Grey</material>
    <selfCollide>False</selfCollide>
  </gazebo>
  <gazebo reference="scara_e1_bar1">
    <material>Gazebo/White</material>
    <selfCollide>False</selfCollide>
  </gazebo>
  <gazebo reference="scara_e1_fixbar1">
    <material>Gazebo/White</material>
    <selfCollide>False</selfCollide>
  </gazebo>
  <gazebo reference="scara_e1_motor2">
    <material>Gazebo/Black</material>
    <selfCollide>False</selfCollide>
  </gazebo>
  <gazebo reference="scara_e1_motor2_inside">
    <material>Gazebo/Red</material>
    <selfCollide>False</selfCollide>
  </gazebo>
  <gazebo reference="scara_e1_motor3">
    <material>Gazebo/Black</material>
    <selfCollide>False</selfCollide>
  </gazebo>
  <gazebo reference="scara_e1_motor3_inside">
    <material>Gazebo/Red</material>
    <selfCollide>False</selfCollide>
  </gazebo>
  <gazebo reference="scara_e1_motor3_support">
    <material>Gazebo/Grey</material>
    <selfCollide>False</selfCollide>
  </gazebo>
  <gazebo reference="scara_e1_bar3">
    <material>Gazebo/White</material>
    <selfCollide>False</selfCollide>
  </gazebo>
  <gazebo reference="scara_e1_motor4">
    <material>Gazebo/Black</material>
    <selfCollide>False</selfCollide>
  </gazebo>
  <gazebo reference="scara_e1_motor4_inside">
    <material>Gazebo/Red</material>
    <selfCollide>False</selfCollide>
  </gazebo>
  <gazebo reference="scara_e1_motor4_support">
    <material>Gazebo/Grey</material>
    <selfCollide>False</selfCollide>
  </gazebo>
  <gazebo reference="scara_e1_motor5">
    <material>Gazebo/Black</material>
    <selfCollide>False</selfCollide>
  </gazebo>
  <gazebo reference="scara_e1_motor5_inside">
    <material>Gazebo/Red</material>
    <selfCollide>False</selfCollide>
  </gazebo>
  <gazebo reference="scara_e1_motor5_support">
    <material>Gazebo/Grey</material>
    <selfCollide>False</selfCollide>
  </gazebo>
  <gazebo reference="scara_e1_motor6">
    <material>Gazebo/Black</material>
    <selfCollide>False</selfCollide>
  </gazebo>
  <gazebo reference="scara_e1_motor6_inside">
    <material>Gazebo/Red</material>
    <selfCollide>False</selfCollide>
  </gazebo>
  <gazebo reference="scara_e1_motor6_support">
    <material>Gazebo/Grey</material>
    <selfCollide>False</selfCollide>
  </gazebo>
  <gazebo reference="scara_e1_rangefinder">
    <material>Gazebo/Blue</material>
    <selfCollide>False</selfCollide>
  </gazebo>
  <gazebo>
    <plugin filename="libgazebo_ros_control.so" name="gazebo_ros_control">
      <robotNamespace>/</robotNamespace>
      <robotSimType>gazebo_ros_control/DefaultRobotHWSim</robotSimType>
    </plugin>
  </gazebo>
  <gazebo reference="ee_link">
    <sensor name="scara_e1_rangefinder_sensor" type="ray">
      <visualize>true</visualize>
      <update_rate>20</update_rate>
      <ray>
        <scan>
          <horizontal>
            <samples>1</samples>
            <resolution>1</resolution>
            <min_angle>-0.17</min_angle>
            <max_angle>0.17</max_angle>
          </horizontal>
          <vertical>
            <samples>40</samples>
            <resolution>1</resolution>
            <min_angle>-1.574</min_angle>
            <max_angle>-1.572</max_angle>
          </vertical>
        </scan>
        <range>
          <min>0</min>
          <max>2</max>
          <resolution>0.01</resolution>
        </range>
      </ray>
      <plugin filename="libgazebo_ros_laser.so" name="laser">
        <topicName>/scan</topicName>
        <frameName>ee_link</frameName>
      </plugin>
    </sensor>
  </gazebo>
</robot>
